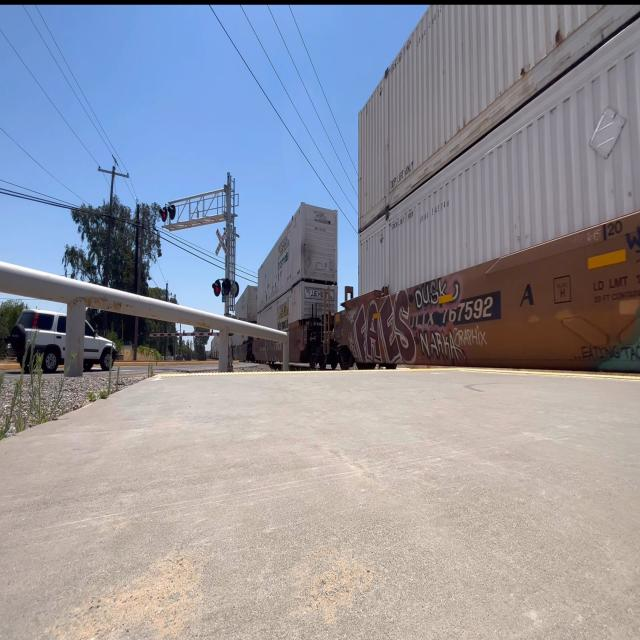container: (355, 20, 640, 298), (355, 0, 628, 225)
flatcar: (335, 202, 635, 386)
